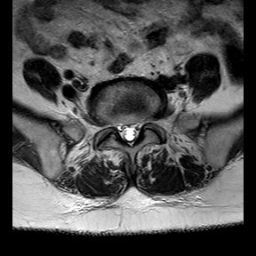CCS_normal: (126, 113, 134, 152)
LFS_normal: (142, 107, 151, 134)
LLS_normal: (134, 112, 142, 146)
RFS_severe_stenosis: (108, 112, 117, 136)
RLS_normal: (117, 115, 126, 146)
